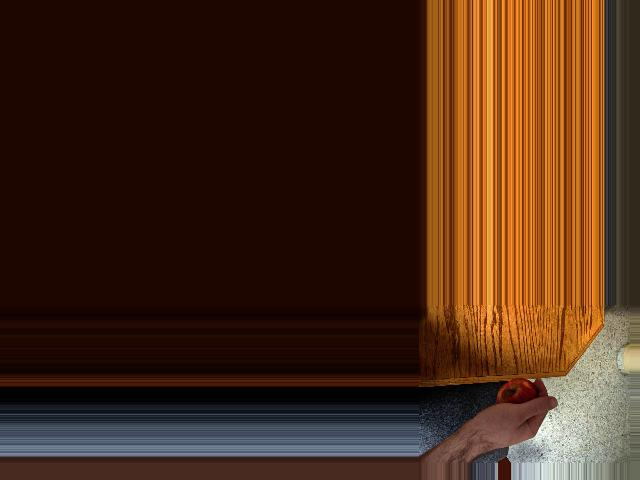apple: (491, 377, 539, 417)
